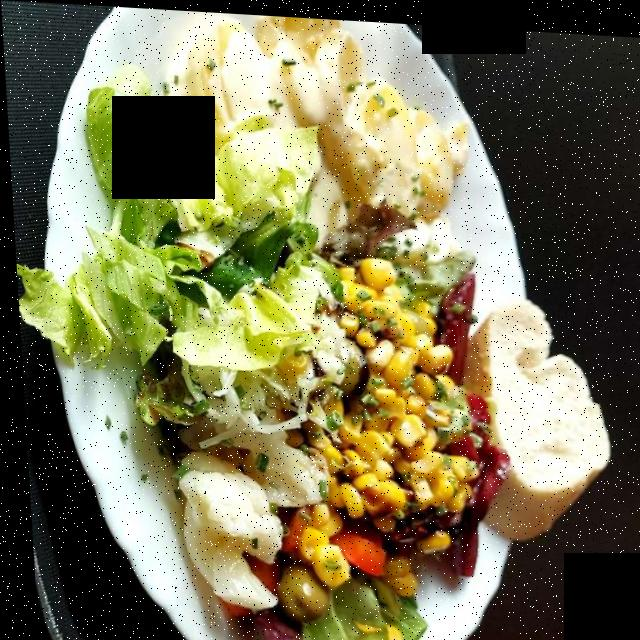beetroot-steamed-without-addition-of-salt: (376, 404, 491, 574)
bell-pepper-red-raw: (327, 535, 383, 570)
bread-french-white-flour: (464, 307, 592, 532)
cauliflower: (162, 448, 265, 609)
green-olives: (272, 561, 321, 622)
potatoes-au-gratin-dauphinois-prepared: (182, 20, 459, 209)
salad-leaf-salad-green: (17, 78, 339, 450)
sweet-corn-canned: (300, 259, 443, 576)
white-cabbage: (173, 318, 344, 444)
